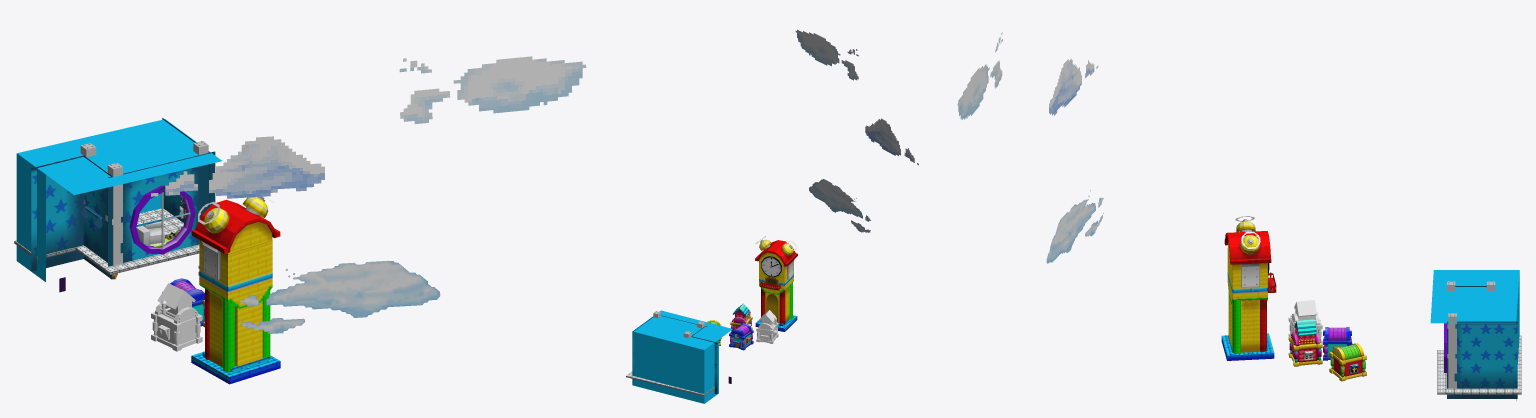
The model's file is Title screen static objects.fbx.
3 views of the same model, side by side, from view 1: azimuth 30°, elevation 25°; view 2: azimuth 150°, elevation 25°; view 3: azimuth 270°, elevation 25° (orthographic). The views are drawn at different scales.
Visible parts, largest first — view 1: cube.379, cuboid.002, Plane, clouds 3, clouds 2, clouds 1, cuboid.005, cuboid.003; view 2: Plane, cuboid.002, clouds 2, clouds 3, clouds 1, cube.379, cuboid.005, cuboid.003, cuboid.004; view 3: cube.379, cuboid.002, Plane, clouds 3, cuboid.004, clouds 2, clouds 1, cuboid, cuboid.005, cuboid.003.
Part boxes in pixels (x1,y1,x2,y2): cube.379: (14, 118, 215, 292); cuboid.002: (191, 196, 280, 384); Plane: (16, 119, 221, 281); clouds 3: (240, 260, 440, 333); clouds 2: (399, 56, 586, 123); clouds 1: (151, 136, 324, 198); cuboid.005: (151, 283, 202, 351); cuboid.003: (162, 278, 204, 326); Plane: (632, 310, 732, 403); cuboid.002: (755, 236, 797, 331); clouds 2: (795, 29, 858, 80); clouds 3: (809, 179, 870, 232); clouds 1: (865, 118, 918, 165); cube.379: (626, 311, 731, 395); cuboid.005: (756, 310, 778, 343); cuboid.003: (729, 323, 753, 350); cuboid.004: (730, 303, 752, 331); cube.379: (1437, 281, 1521, 398); cuboid.002: (1221, 216, 1276, 360); Plane: (1430, 270, 1519, 400); clouds 3: (1046, 190, 1103, 263); cuboid.004: (1288, 319, 1322, 366); clouds 2: (957, 32, 1002, 119); clouds 1: (1049, 58, 1098, 115); cuboid: (1329, 343, 1366, 381); cuboid.005: (1288, 300, 1322, 344); cuboid.003: (1323, 327, 1352, 360).
Bounding box in the file's own units: 37.68 × 45.41 × 67.34.
